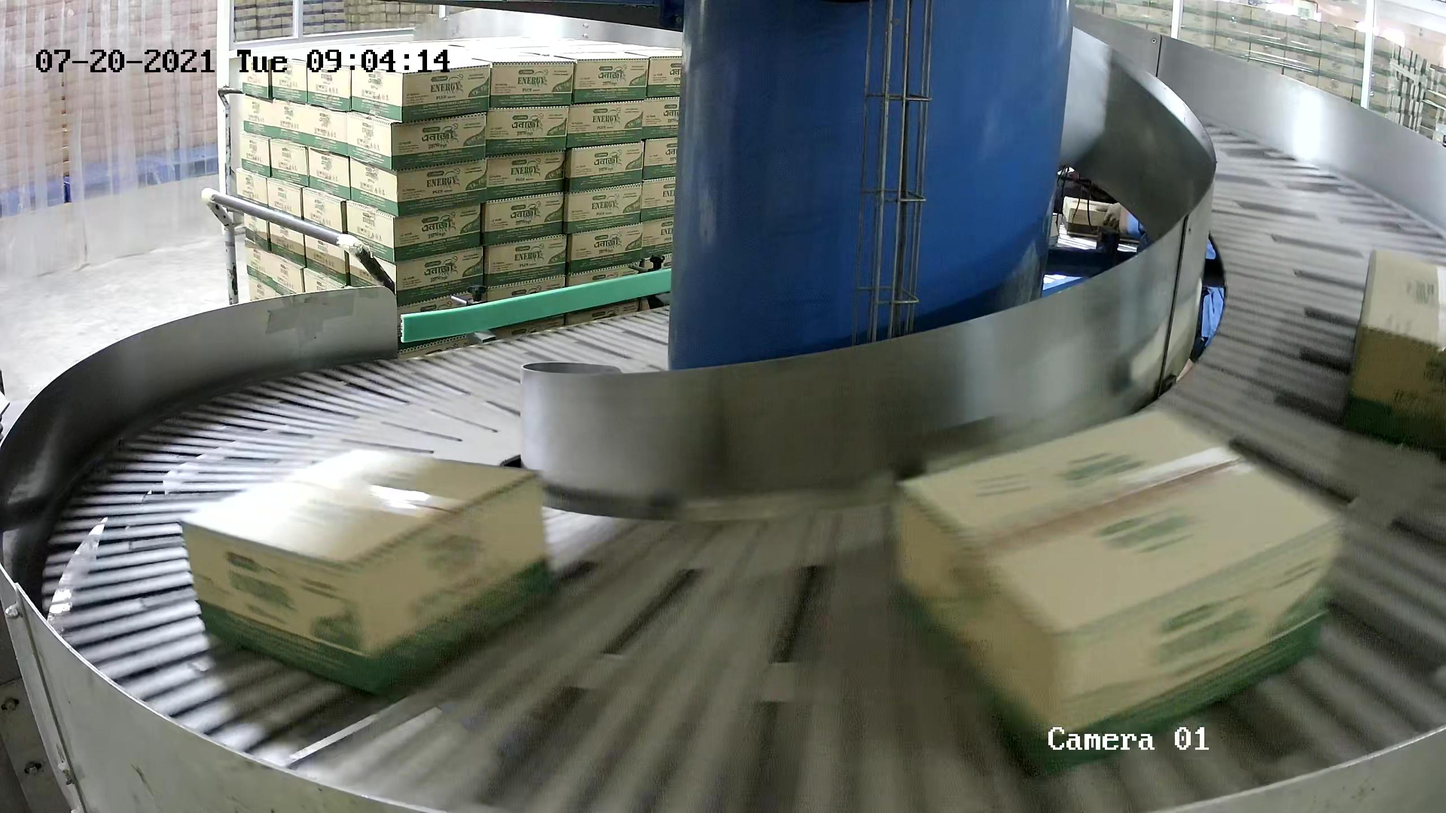Box: (889, 398, 1346, 781), (176, 446, 557, 696), (1342, 246, 1446, 454)
